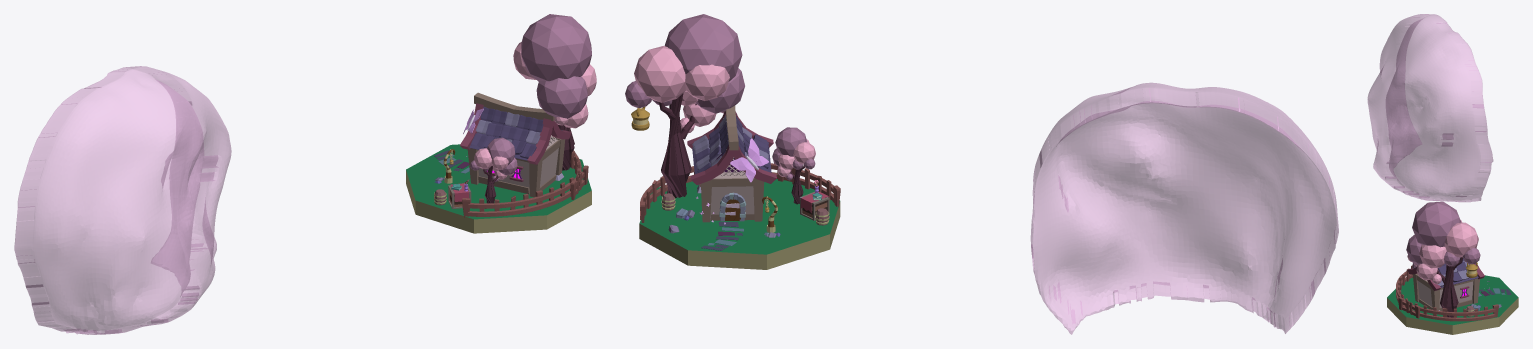
The model's file is LIGHT.fbx.
3 views of the same model, side by side, from view 1: azimuth 30°, elevation 25°; view 2: azimuth 150°, elevation 25°; view 3: azimuth 270°, elevation 25° (orthographic). The views are drawn at different scales.
Parts seen in each view (by area): view 1: Sphere, Cylinder.007, Cylinder.001, Plane.004, Cube.018, Icosphere.018, Cube.015; view 2: Sphere, Cylinder.007, Cylinder.001, Plane.004, Cube.018, Icosphere.018, Cube.015, Cube.023; view 3: Sphere, Cylinder.007, Cylinder.001, Plane.004, Cube.018, Cube.023, Cylinder.008.
Boxes of the visible parts, x1,y1,x2,y2 form: Sphere: (14,66,231,334); Cylinder.007: (513,14,596,170); Cylinder.001: (406,144,591,233); Plane.004: (460,92,571,197); Cube.018: (462,150,588,218); Icosphere.018: (487,137,515,164); Cube.015: (448,183,471,208); Sphere: (1030,82,1338,334); Cylinder.007: (625,14,744,198); Cylinder.001: (639,179,840,269); Plane.004: (687,105,776,222); Cube.018: (640,163,840,222); Icosphere.018: (775,127,807,156); Cube.015: (799,191,829,220); Cube.023: (701,222,743,250); Sphere: (1367,14,1493,202); Cylinder.007: (1406,201,1480,317); Cylinder.001: (1387,275,1518,334); Plane.004: (1407,258,1484,311); Cube.018: (1396,265,1498,321); Cube.023: (1478,288,1511,296); Cylinder.008: (1466,262,1477,277).
Size of the model in its own units: 8561 by 2983 by 2687.
